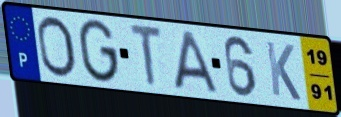6: (223, 34, 259, 99)
A: (173, 29, 220, 94)
G: (77, 17, 121, 86)
K: (263, 39, 303, 104)
O: (35, 14, 80, 80)
T: (128, 22, 165, 89)
